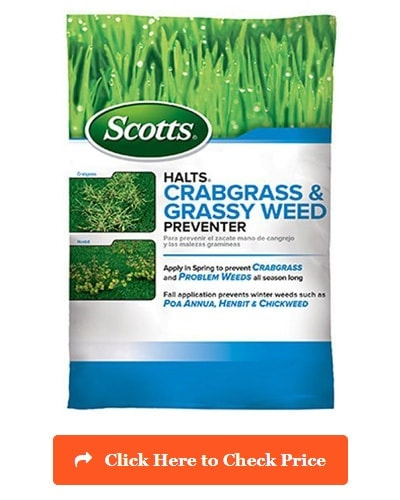crabgrass: (75, 187, 146, 234)
